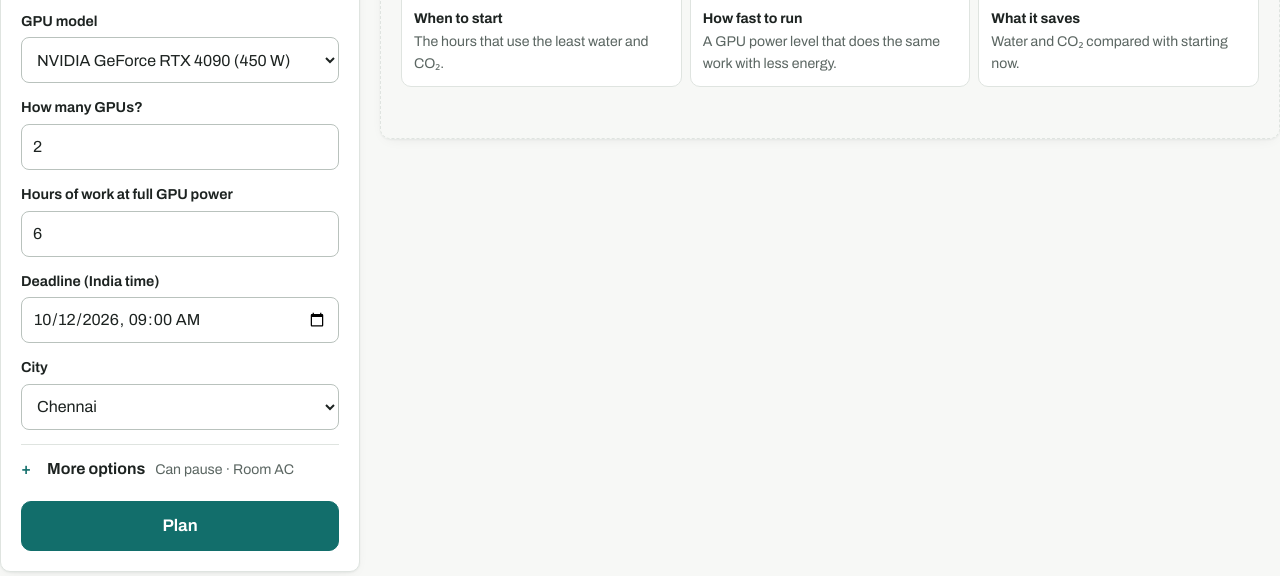
Test case: PlanPage with a plan › does not warn when the forecast is live
This screenshot has width=1280, height=576.
(page scrolled)
Click the button "Plan" at (180, 526), box top-left (21, 501), bottom-right (339, 551)
(page scrolled)
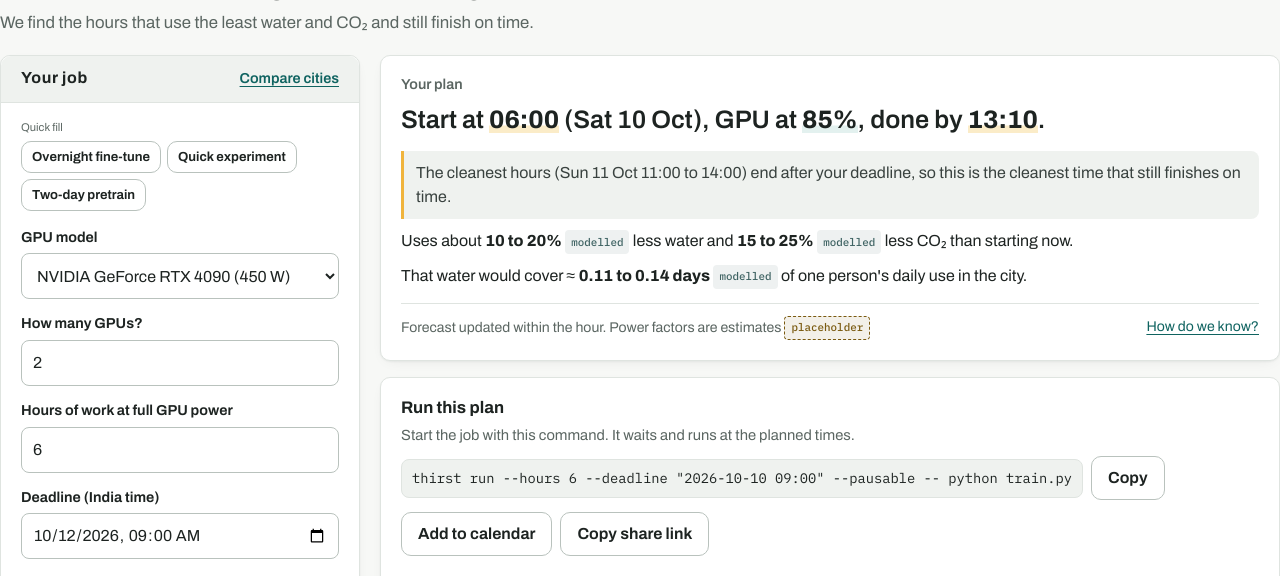
Result: the element "Your plan" is shown at top-left (380, 55), bottom-right (1279, 361)
